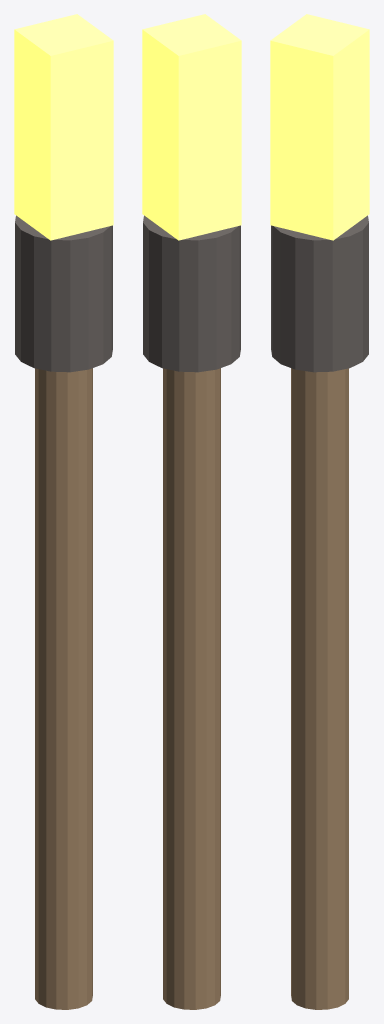
Rendered from torch.glb.
3 renders of one model, left to right at view 1: azimuth 30°, elevation 25°; view 2: azimuth 210°, elevation 25°; view 3: azimuth 330°, elevation 25°, orthographic.
Parts seen in each view (by area): view 1: torch0, torch2, torch1; view 2: torch0, torch2, torch1; view 3: torch0, torch2, torch1.
Part boxes in pixels (x1,y1,x2,y2): torch0: (35,368,92,1009); torch2: (14,14,113,240); torch1: (15,215,112,372); torch0: (163,368,220,1009); torch2: (142,14,241,240); torch1: (143,215,240,372); torch0: (291,368,348,1009); torch2: (270,14,369,240); torch1: (271,215,368,372).
Size of the model in its own units: 0.068 by 0.73 by 0.068.
